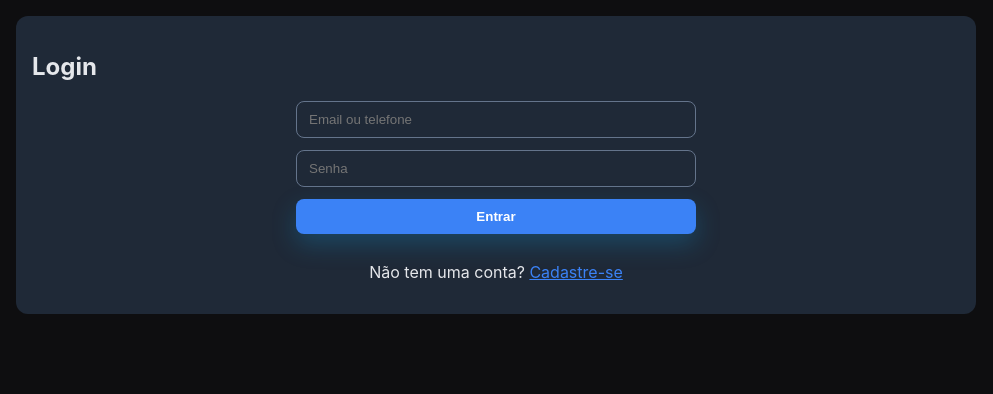
Test: Login › should validate empty fields
Click the button "Entrar": (496, 216) [296,199,696,234]
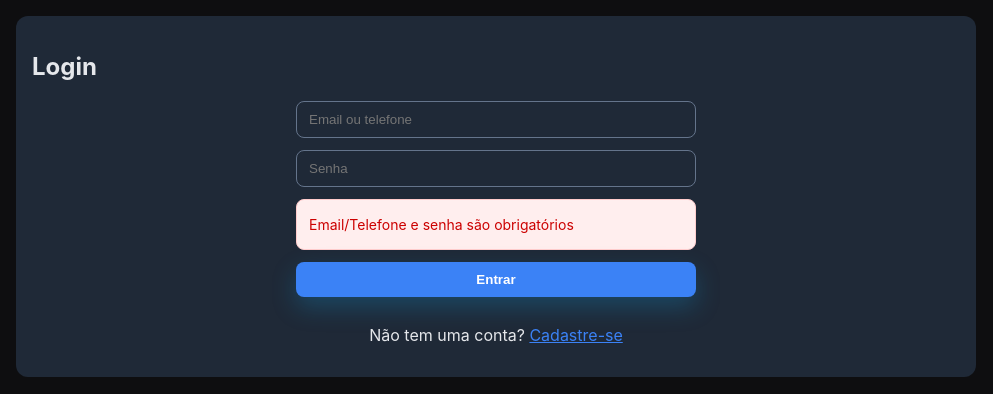
Now the text "Email/Telefone e senha são obrigatórios" is shown, box [309,216,574,233]
